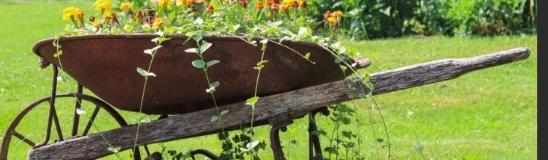BROUETTE: (0, 35, 538, 160)
